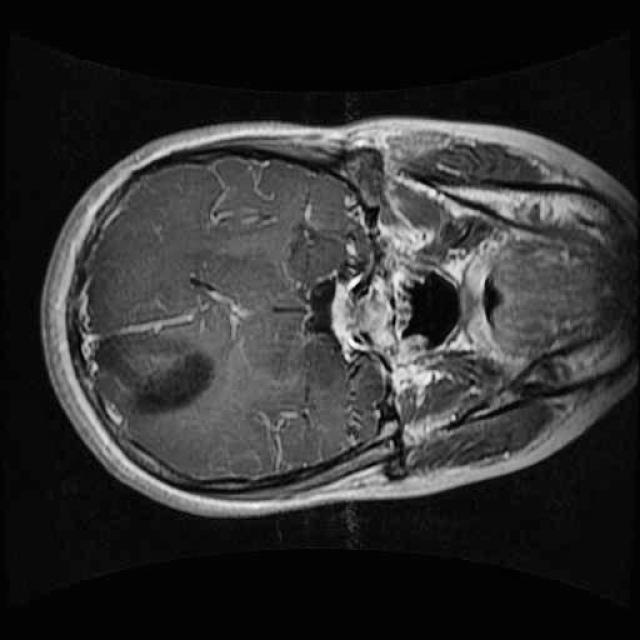Tumor: (78, 316, 228, 426)
